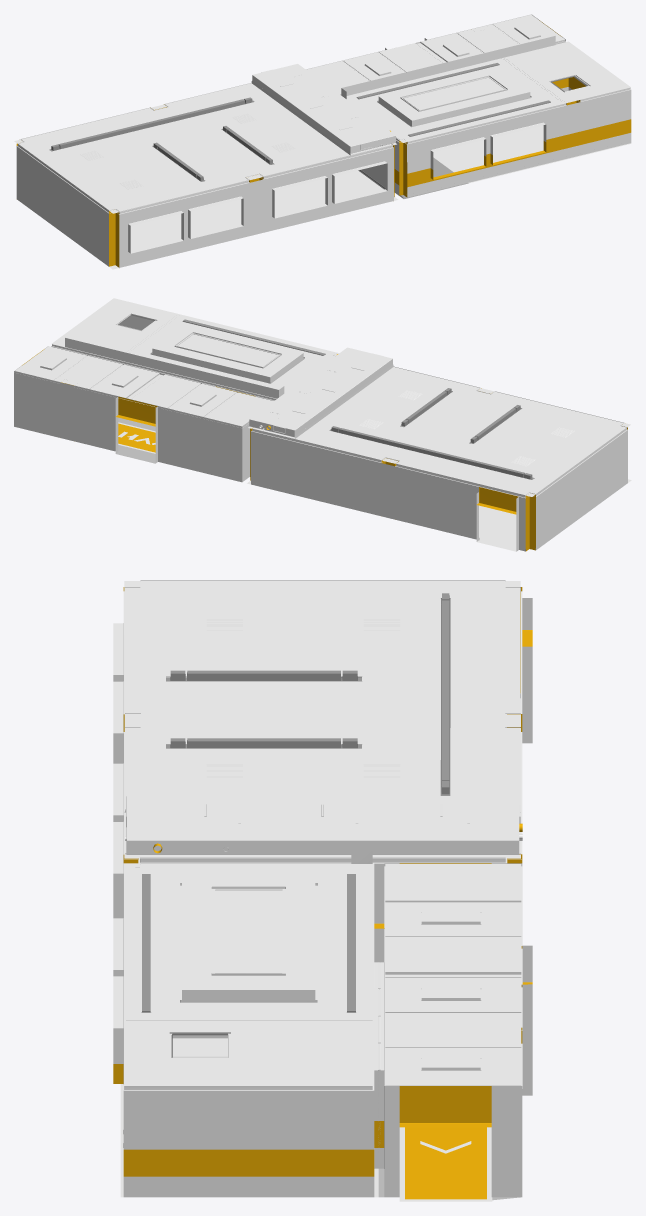
3 renders of one model, top to bottom at view 1: azimuth 30°, elevation 25°; view 2: azimuth 150°, elevation 25°; view 3: azimuth 270°, elevation 25°, orthographic. The views are drawn at different scales.
Visible parts, largest first — view 1: SM_H_Building_FutureTech_AssemblyArea_InterWall_04; view 2: SM_H_Building_FutureTech_AssemblyArea_InterWall_04; view 3: SM_H_Building_FutureTech_AssemblyArea_InterWall_04.
Boxes of the visible parts, x1,y1,x2,y2 form: SM_H_Building_FutureTech_AssemblyArea_InterWall_04: [14, 14, 631, 269]; SM_H_Building_FutureTech_AssemblyArea_InterWall_04: [14, 298, 631, 551]; SM_H_Building_FutureTech_AssemblyArea_InterWall_04: [113, 580, 532, 1201].
Size of the model in its own units: 472 by 1360 by 163.
